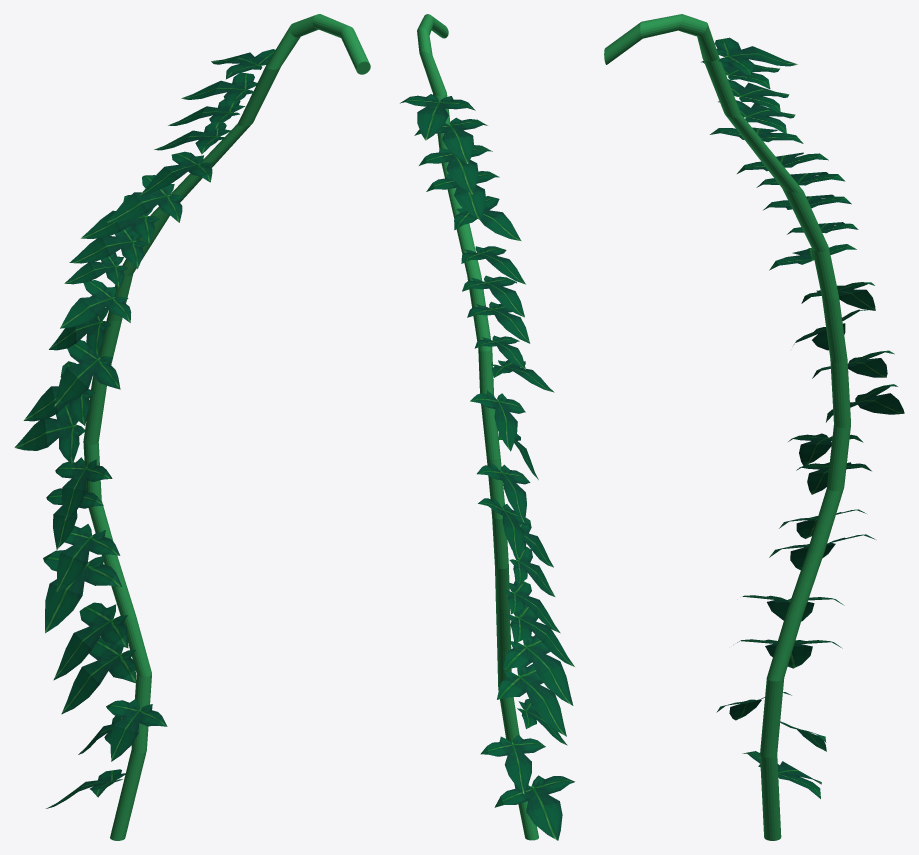
The model's file is hangVine1.fbx.
The picture shows the model from 3 angles, left to right: view 1: azimuth 30°, elevation 25°; view 2: azimuth 150°, elevation 25°; view 3: azimuth 270°, elevation 25°; orthographic projection. The views are drawn at different scales.
Parts seen in each view (by area): view 1: leafvine fixed; view 2: leafvine fixed; view 3: leafvine fixed.
Boxes of the visible parts, x1,y1,x2,y2 form: leafvine fixed: [14, 14, 370, 840]; leafvine fixed: [400, 14, 574, 840]; leafvine fixed: [604, 14, 904, 840].
Bounding box in the file's own units: 35.76 × 117 × 35.05.
